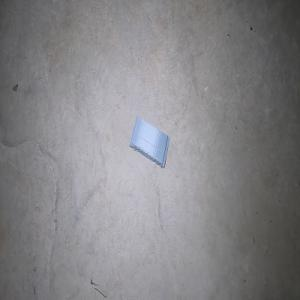PlasticPart: (128, 115, 169, 169)
